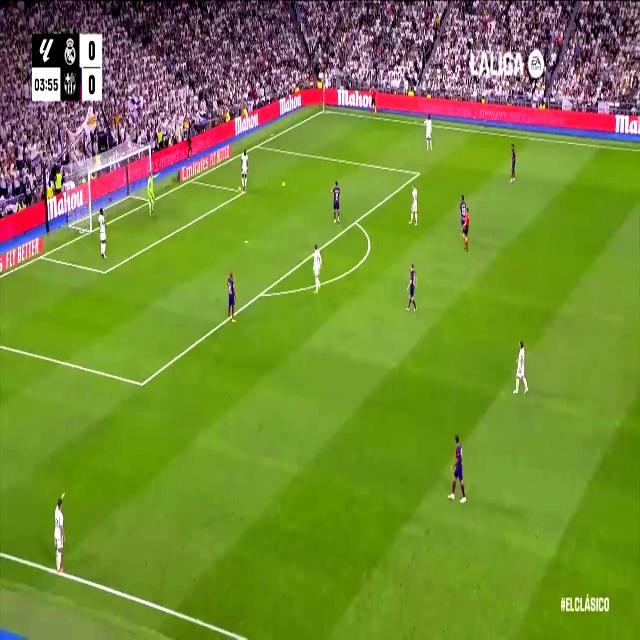bigarea_bottom_inner: (137, 372, 147, 395)
bigarea_top_inner: (416, 167, 420, 179)
bigarea_top_outter: (255, 140, 260, 150)
bottom_arc_area_intersection: (256, 284, 266, 302)
corner: (319, 102, 329, 115)
smallarea_bottom_inner: (101, 262, 109, 280)
smallarea_bottom_outter: (39, 250, 45, 262)
top_arc_area_intersection: (352, 214, 360, 229)
